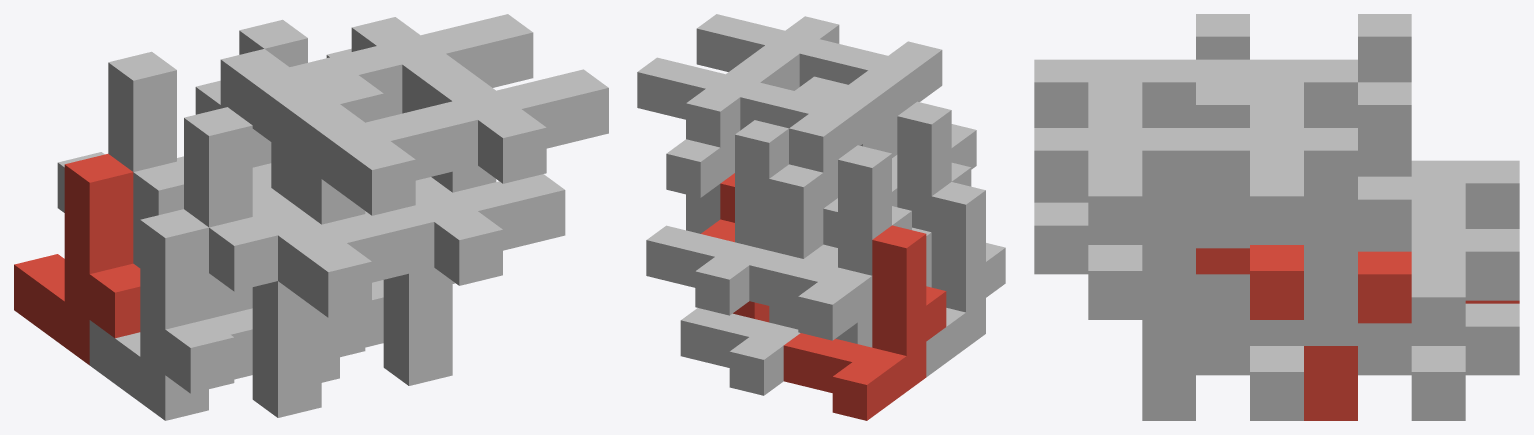
The model's file is tiling.obj.
3 views of the same model, side by side, from view 1: azimuth 30°, elevation 25°; view 2: azimuth 150°, elevation 25°; view 3: azimuth 270°, elevation 25° (orthographic). The views are drawn at different scales.
Parts seen in each view (by area): view 1: copy_2_domain_2, copy_1_domain_2, copy_2_domain_6, copy_2_domain_4, copy_1_domain_1, copy_1_domain_4, copy_2_domain_8, copy_2_domain_3, copy_1_domain_3, copy_2_domain_7, copy_1_domain_6, copy_1_domain_7 (+2 smaller); view 2: copy_1_domain_1, copy_1_domain_3, copy_2_domain_7, copy_1_domain_7, copy_2_domain_3, copy_1_domain_2, copy_1_domain_5, copy_2_domain_4, copy_1_domain_4, copy_2_domain_8, copy_2_domain_1, copy_2_domain_5 (+2 smaller); view 3: copy_2_domain_7, copy_2_domain_8, copy_1_domain_7, copy_2_domain_6, copy_2_domain_5, copy_1_domain_3, copy_2_domain_4, copy_1_domain_5, copy_2_domain_3, copy_1_domain_6, copy_1_domain_8, copy_1_domain_4.
Part boxes in pixels (x1,y1,x2,y2): copy_2_domain_2: (252,206,434,417); copy_1_domain_2: (89,209,252,420); copy_2_domain_6: (383,174,565,385); copy_2_domain_4: (271,101,477,315); copy_1_domain_1: (14,154,140,365); copy_1_domain_4: (133,107,277,318); copy_2_domain_8: (402,69,608,283); copy_2_domain_3: (195,46,402,167); copy_1_domain_3: (57,51,183,222); copy_2_domain_7: (326,14,533,117); copy_1_domain_6: (250,280,383,382); copy_1_domain_7: (239,19,307,66); copy_1_domain_1: (783,225,946,420); copy_1_domain_3: (749,145,911,340); copy_2_domain_7: (637,57,779,233); copy_1_domain_7: (646,120,788,315); copy_2_domain_3: (740,82,882,222); copy_1_domain_2: (926,182,1005,377); copy_1_domain_5: (680,209,823,395); copy_2_domain_4: (799,39,942,157); copy_1_domain_4: (897,101,971,271); copy_2_domain_8: (696,14,839,90); copy_2_domain_1: (804,167,897,347); copy_2_domain_5: (701,173,769,322); copy_2_domain_7: (1196,128,1411,345); copy_2_domain_8: (1034,128,1249,345); copy_1_domain_7: (1358,82,1519,345); copy_2_domain_6: (1034,202,1249,420); copy_2_domain_5: (1196,245,1411,420); copy_1_domain_3: (1358,14,1519,228); copy_2_domain_4: (1034,59,1195,127); copy_1_domain_5: (1358,303,1519,420); copy_2_domain_3: (1196,59,1357,127); copy_1_domain_6: (1196,323,1303,420); copy_1_domain_8: (1196,82,1303,345); copy_1_domain_4: (1196,14,1249,59).
Bounding box in the file's own units: 9 × 6 × 9.
